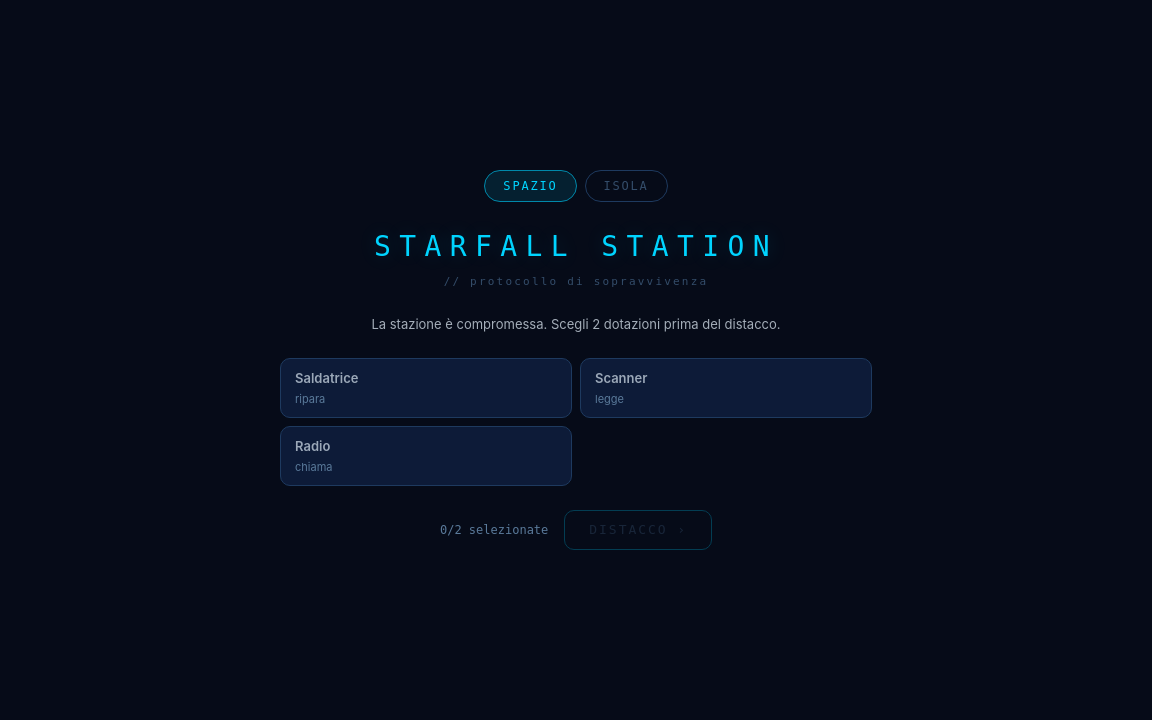
Test: threads the chosen theme into /items and /runs
// pick the island theme
Click the button with test id "theme-island". click: (626, 186)
box: [584,170,668,202]
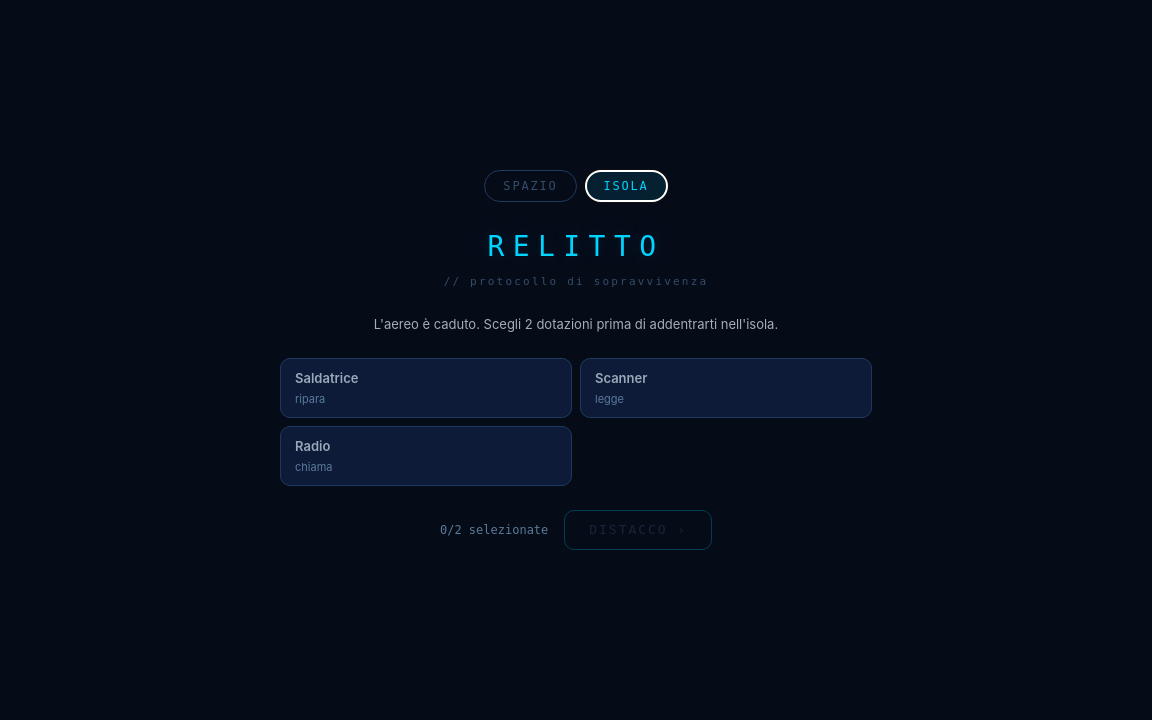
Click the button with test id "item-welder". click: (327, 378)
box: [280,358,572,418]
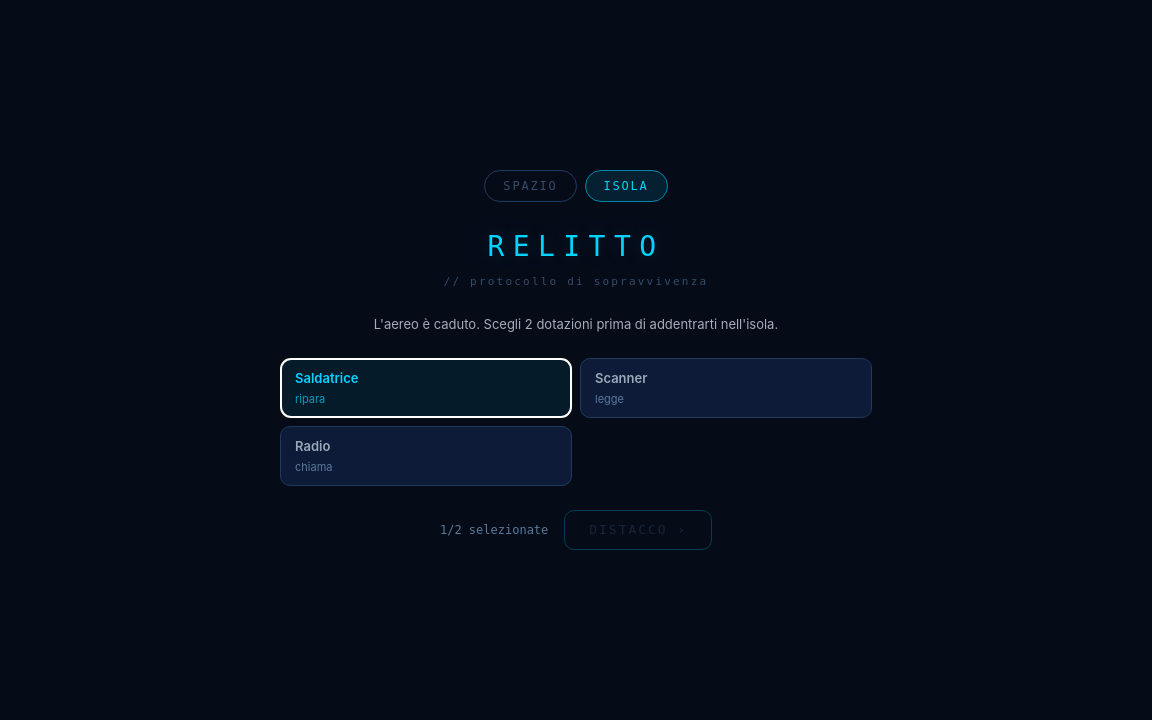
Click the button with test id "item-scanner". click: (621, 378)
box: [580,358,872,418]
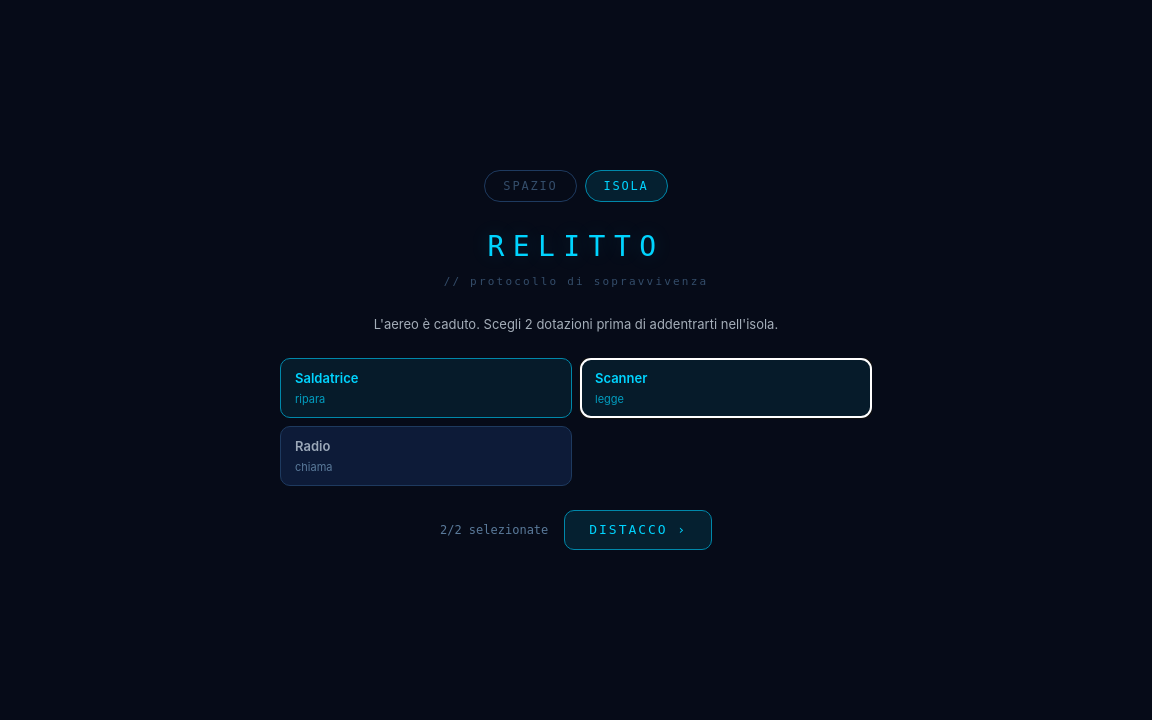
Click the button with test id "begin". click: (638, 530)
box: [564,510,712,550]
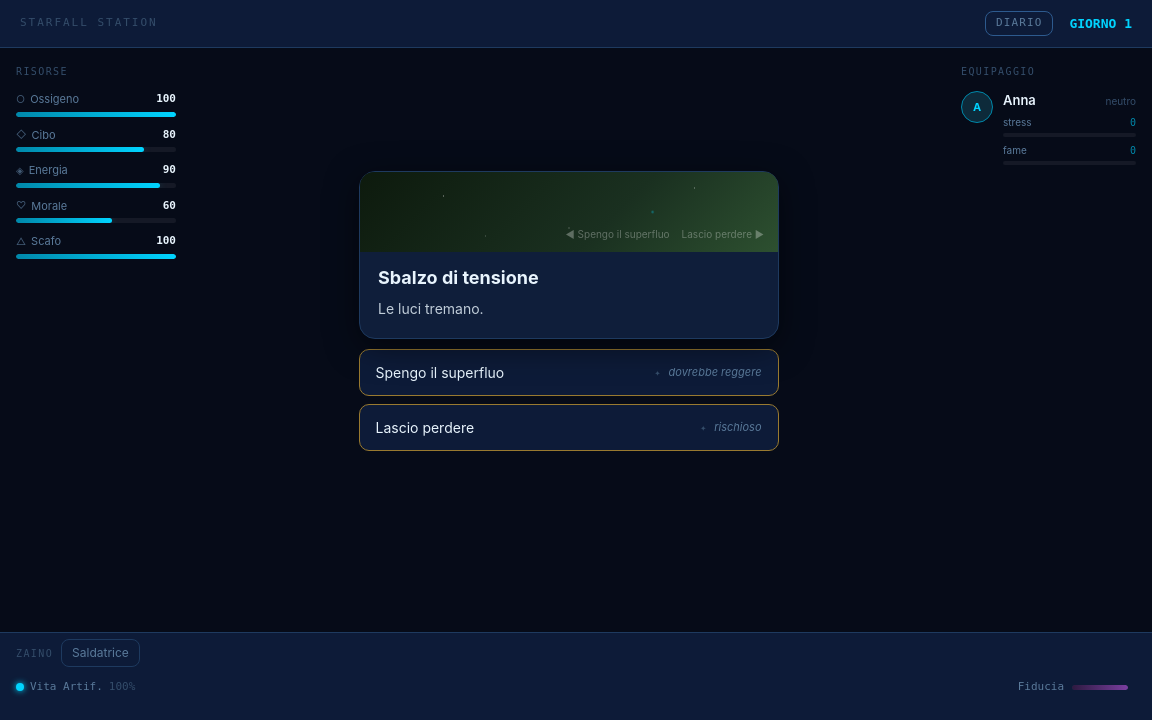
Expected: the element with test id "card" is shown, [358,171,778,339]
